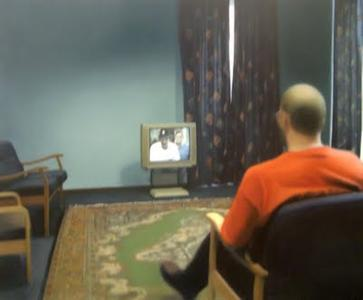person: (159, 84, 362, 295)
